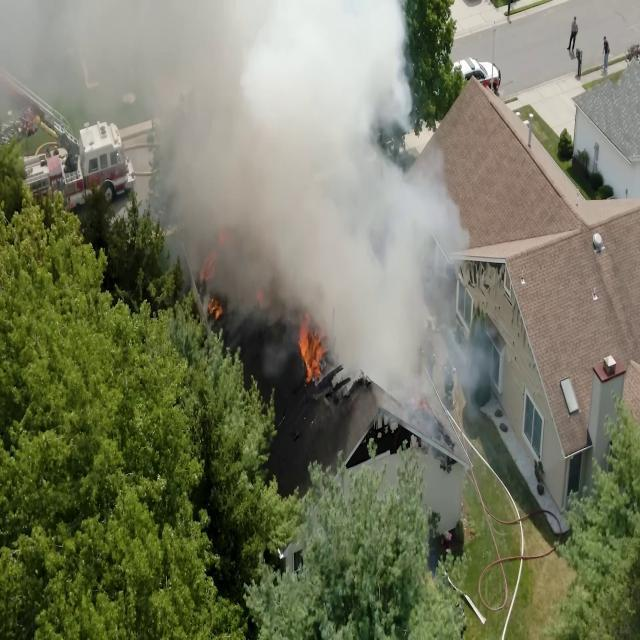Fire: (293, 320, 328, 387)
Smoke: (252, 0, 425, 178)
